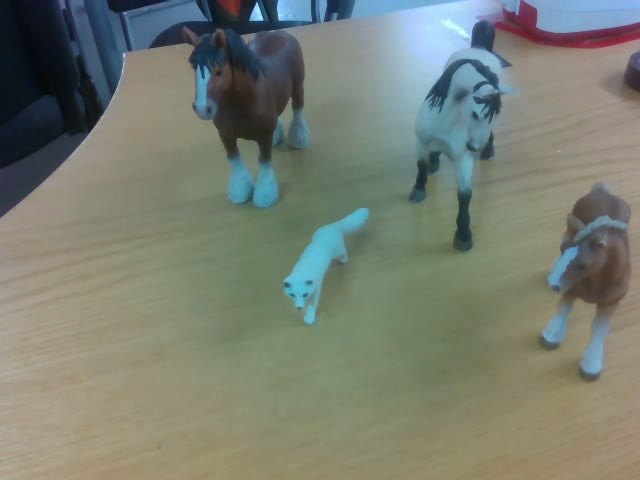toy: (407, 17, 516, 253), (177, 23, 309, 208), (539, 181, 631, 383), (284, 206, 370, 325)
